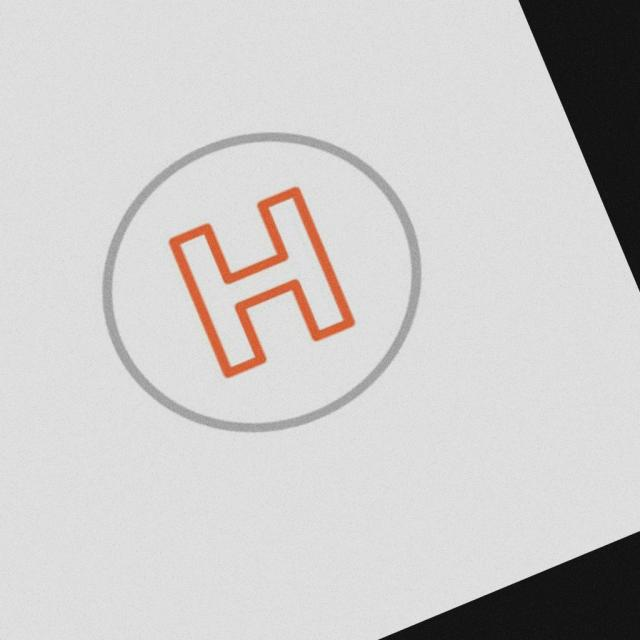helipad: (97, 124, 424, 437)
